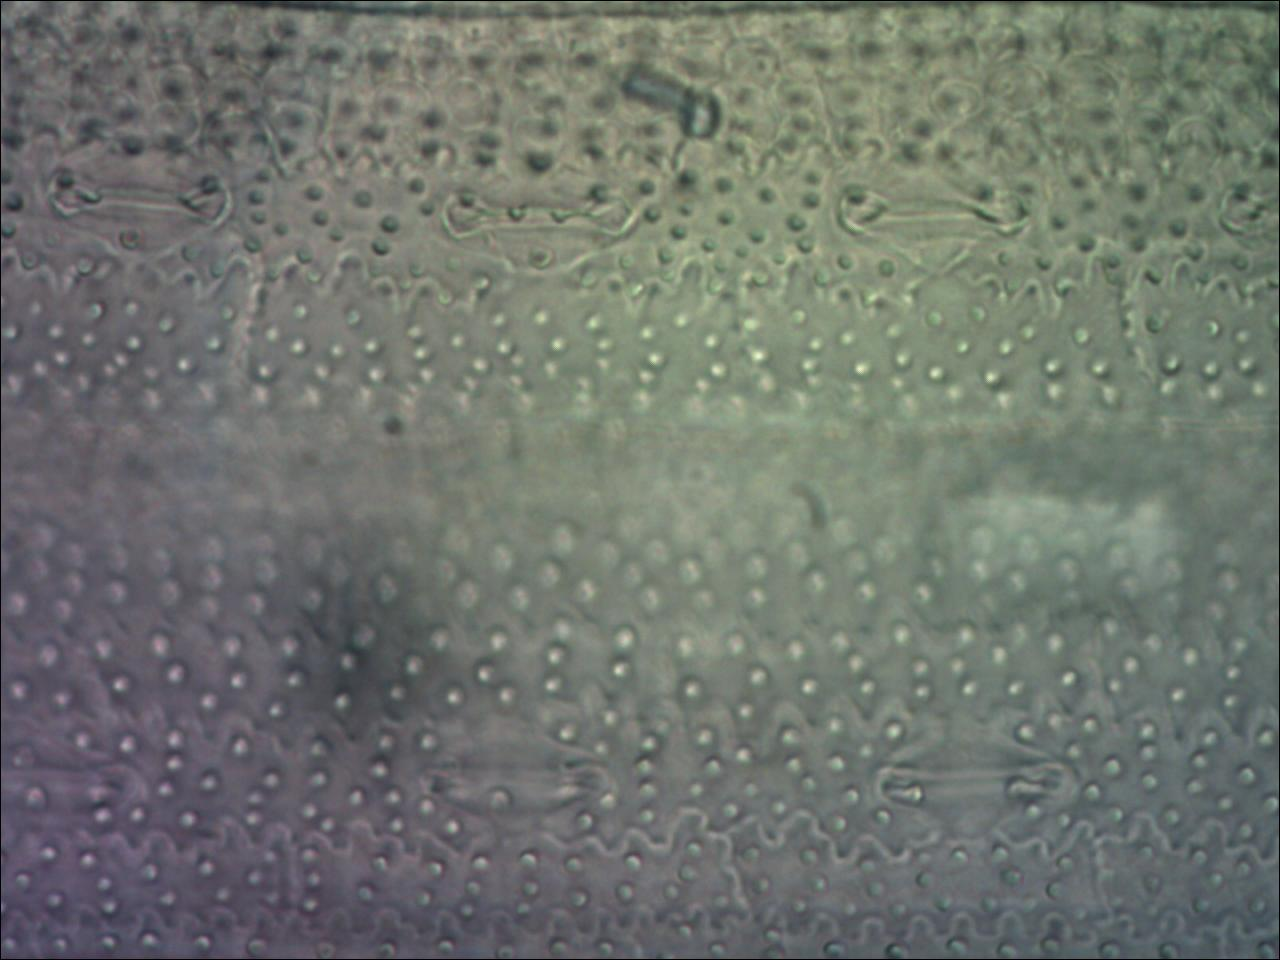stoma: (864, 709, 1089, 848), (413, 703, 610, 824), (441, 167, 648, 280), (833, 158, 1028, 275), (41, 141, 236, 251), (1, 703, 162, 833), (1212, 159, 1280, 250)
